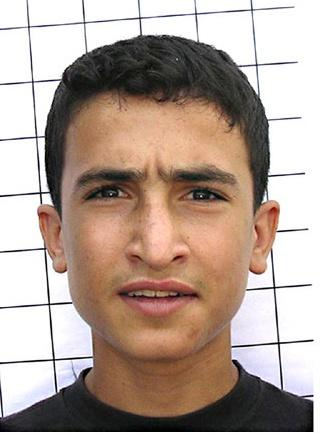No Mask: (24, 28, 312, 423)
